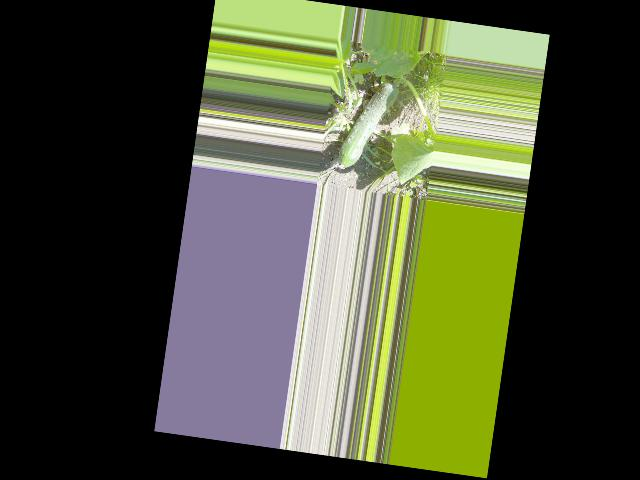cucumber: (336, 75, 400, 174)
